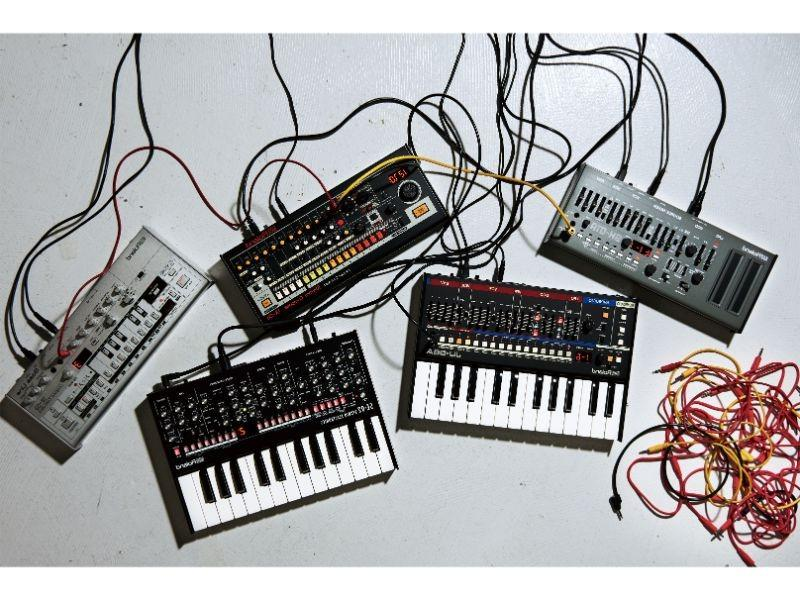synthesizer: (403, 270, 635, 442), (139, 366, 376, 528)
